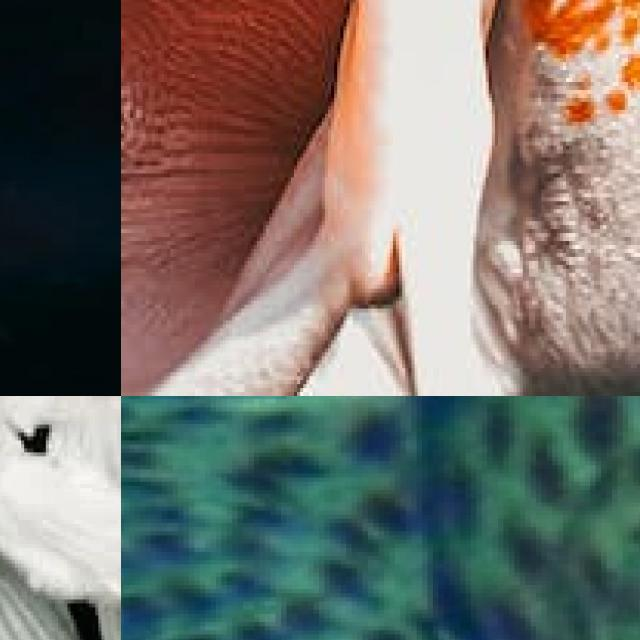fish: (121, 0, 640, 396), (121, 396, 640, 640), (0, 0, 121, 396), (0, 396, 121, 640)
